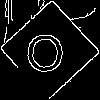O: (25, 25, 66, 72)
